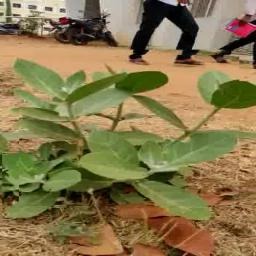CALOTROPIS: (2, 50, 232, 206), (19, 55, 240, 205)
